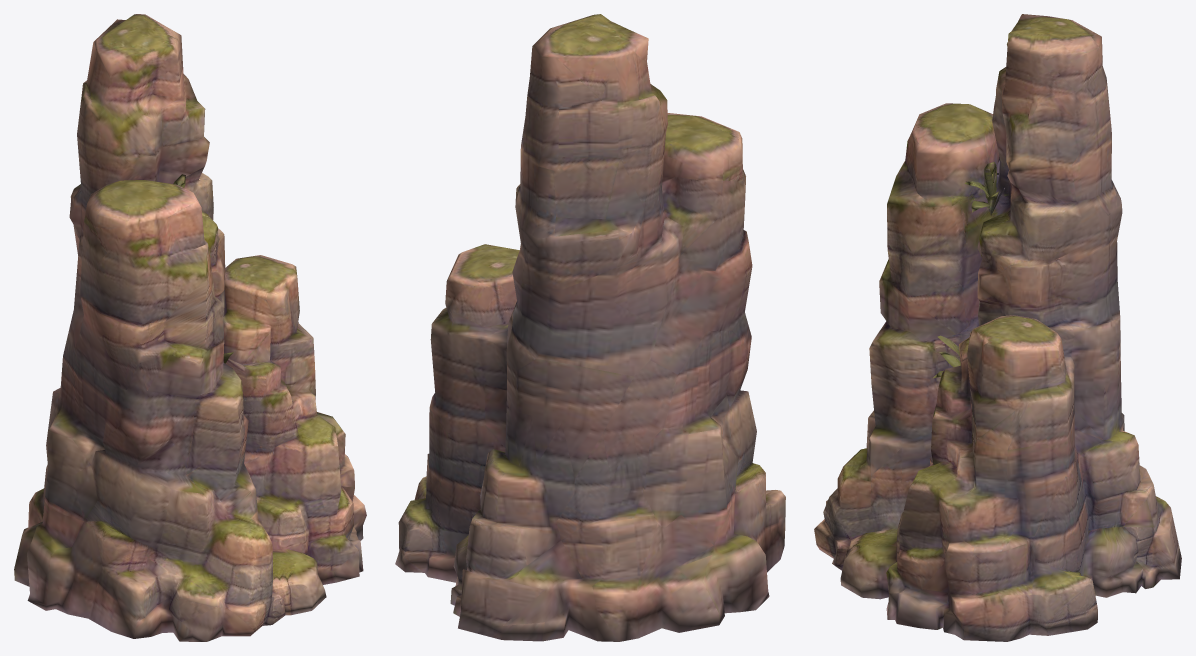
Rendered from outcrop_a.glb.
3 renders of one model, left to right at view 1: azimuth 30°, elevation 25°; view 2: azimuth 150°, elevation 25°; view 3: azimuth 270°, elevation 25°, orthographic. The views are drawn at different scales.
Parts seen in each view (by area): view 1: outcrop_a; view 2: outcrop_a; view 3: outcrop_a.
Part boxes in pixels (<box>): outcrop_a: <box>14,14,366,641</box>; outcrop_a: <box>395,14,785,641</box>; outcrop_a: <box>814,14,1181,641</box>.
Bounding box in the file's own units: 1.79 × 2.8 × 1.78.
1 material, 1 textured.
